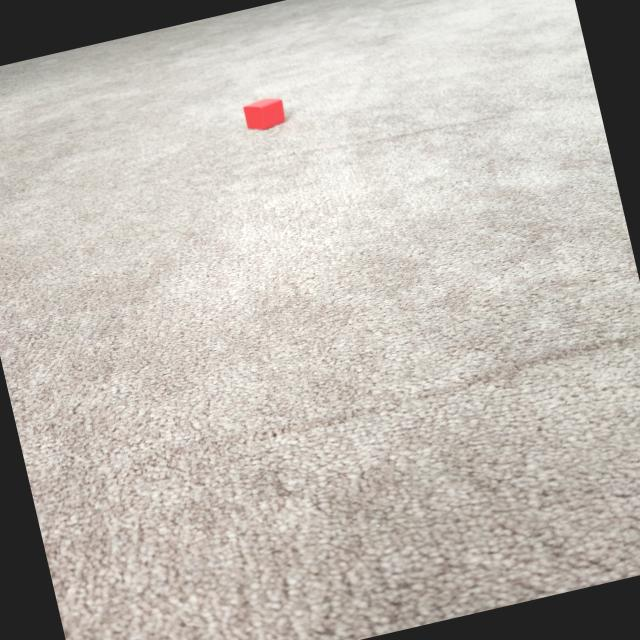red cube: (240, 94, 288, 134)
